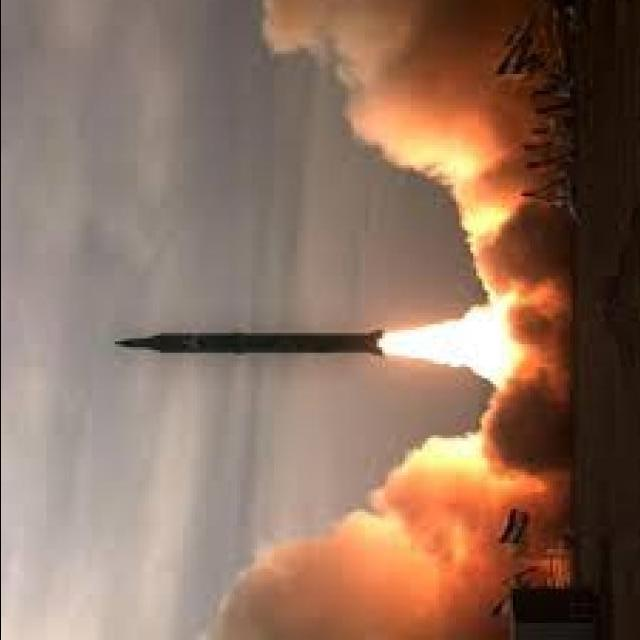missile: (105, 318, 405, 362)
